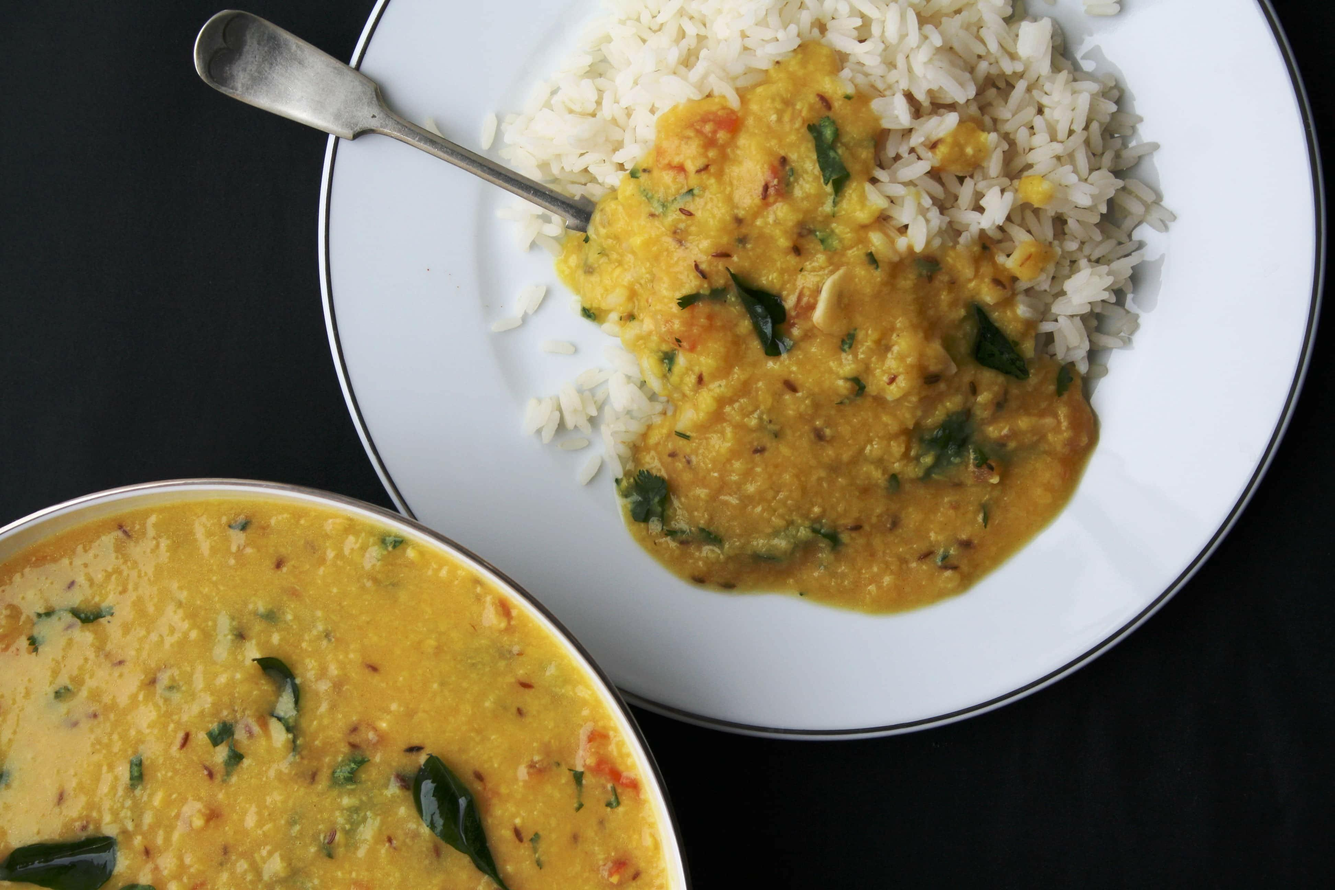Dal: (562, 40, 1104, 613), (0, 493, 662, 890)
WhiteRice: (486, 2, 1175, 482)
